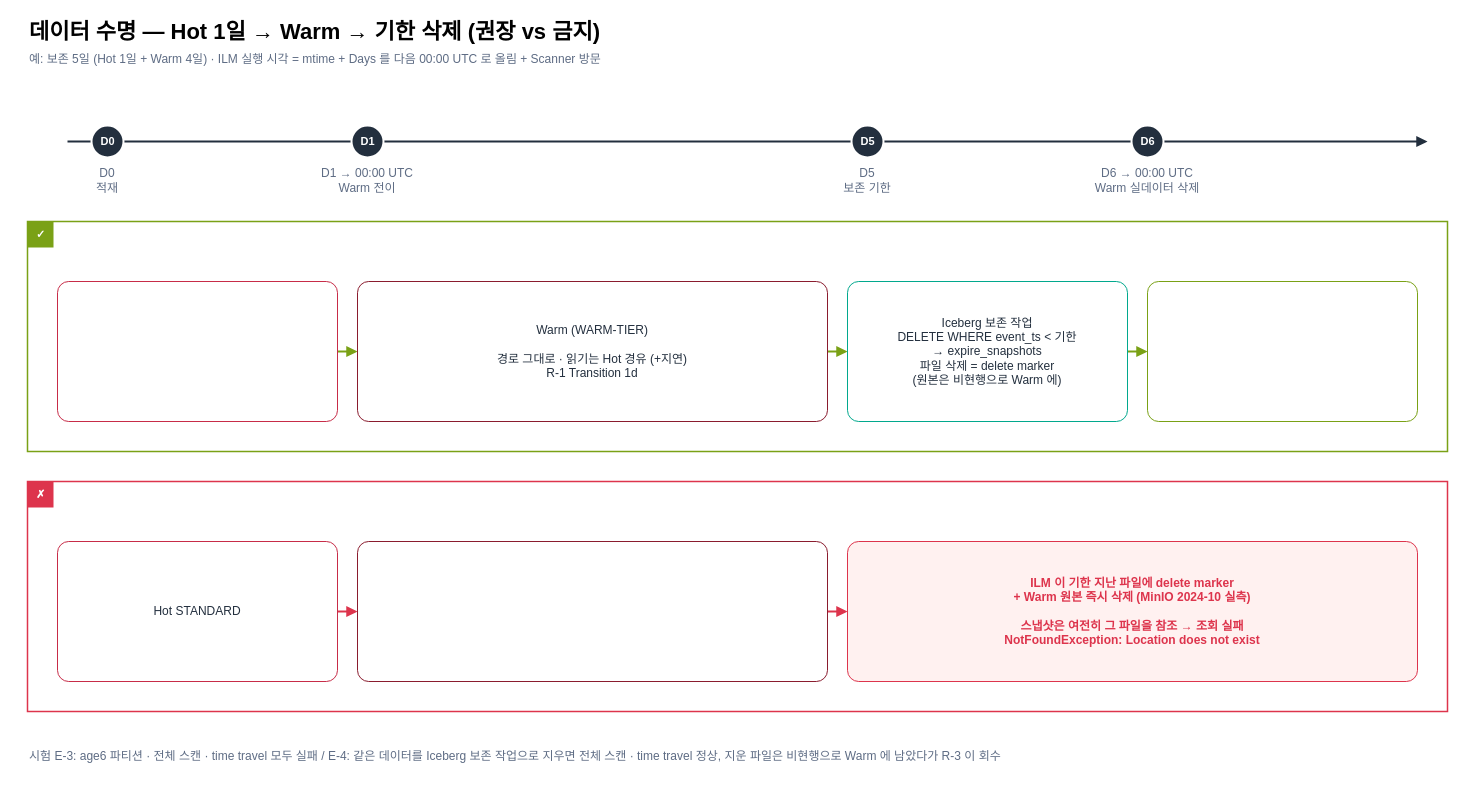
This 1465x798 diagram has some shape labels left out. Here are the shapes that lost their labels. From the top down, the box of each, then its label:
(56, 280, 338, 422): Hot STANDARD 쓰기 · 커밋은 항상 Hot
(26, 220, 1448, 452): 권장 — 삭제는 Iceberg 가, Warm 공간 회수는 ILM 비현행 만료가
(1146, 280, 1418, 422): R-3 비현행 만료 1d → Warm 객체 삭제 R-6 고아 delete marker 정리 테이블은 항상 정상
(356, 540, 828, 682): Warm (WARM-TIER)
(26, 480, 1448, 712): 금지 — ILM current Expiration 을 data/ 에 건다
